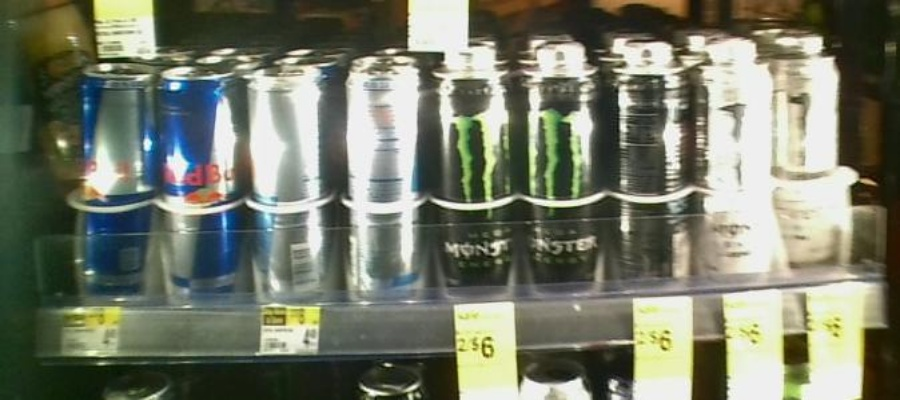bottle: (517, 40, 605, 286), (610, 29, 693, 289), (430, 40, 514, 294), (339, 51, 423, 298), (247, 62, 332, 305), (71, 55, 155, 297), (159, 60, 242, 304), (777, 21, 860, 263), (698, 34, 776, 291)
